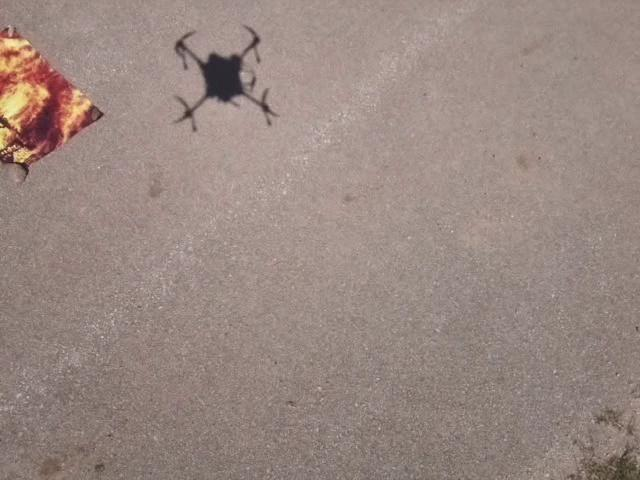fire-poster: (0, 23, 105, 182)
